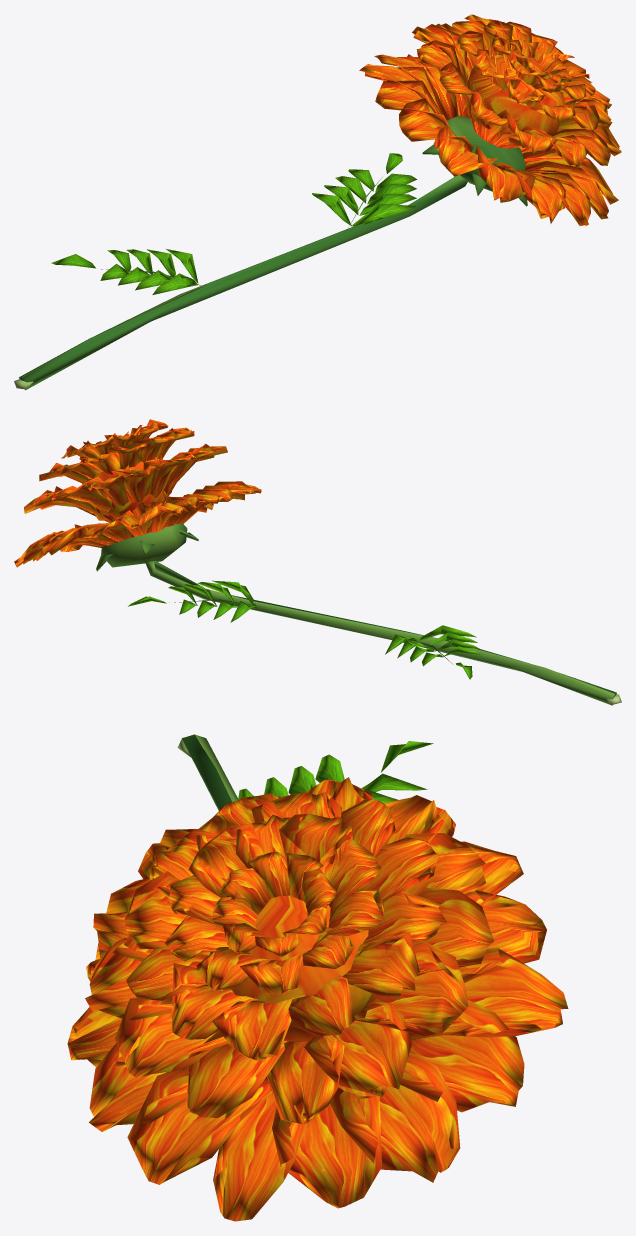
The model's file is NP_Marigold_Harvest_LOD1.fbx.
3 renders of one model, top to bottom at view 1: azimuth 30°, elevation 25°; view 2: azimuth 150°, elevation 25°; view 3: azimuth 270°, elevation 25°, orthographic. The views are drawn at different scales.
Visible parts, largest first — view 1: NP_Marigold_Harvest; view 2: NP_Marigold_Harvest; view 3: NP_Marigold_Harvest.
Part boxes in pixels (box(x1,y1,x2,y2)): NP_Marigold_Harvest: box(14, 14, 621, 390); NP_Marigold_Harvest: box(14, 419, 621, 705); NP_Marigold_Harvest: box(67, 734, 568, 1221).
Bounding box in the file's own units: 58.83 × 19.27 × 22.96.
